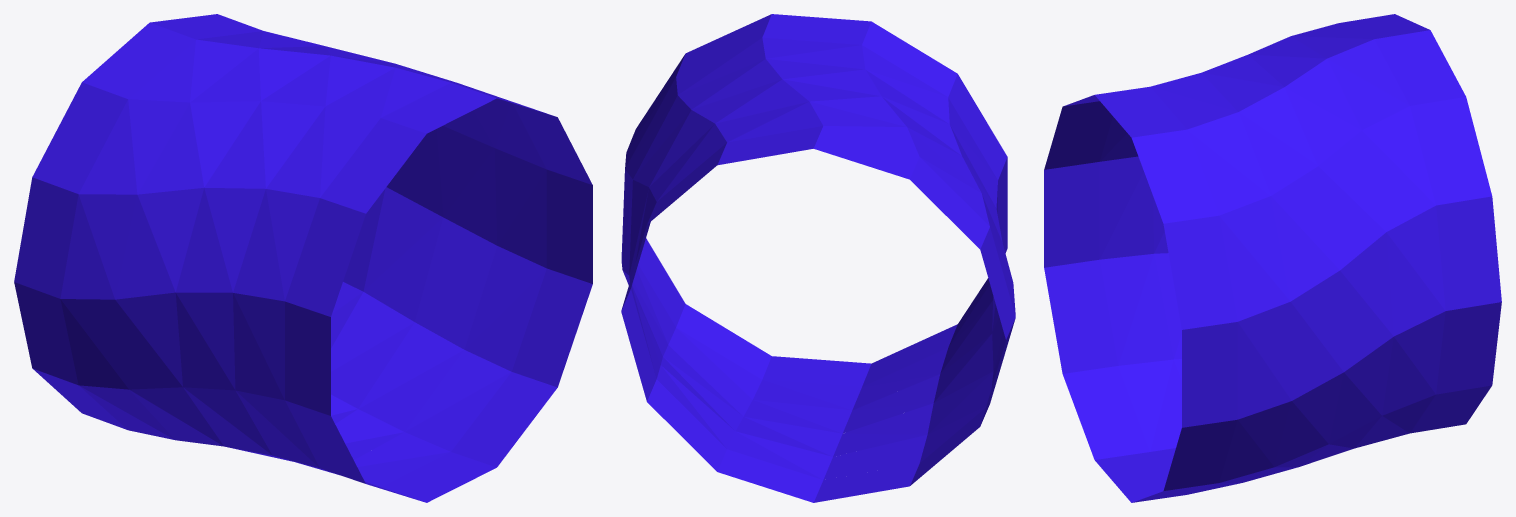
The model's file is rollingFIX.FBX.
The picture shows the model from 3 angles, left to right: view 1: azimuth 30°, elevation 25°; view 2: azimuth 150°, elevation 25°; view 3: azimuth 270°, elevation 25°; orthographic projection. The views are drawn at different scales.
Visible parts, largest first — view 1: Cylinder278; view 2: Cylinder278; view 3: Cylinder278.
Boxes of the visible parts, x1,y1,x2,y2 form: Cylinder278: (14,14,592,502); Cylinder278: (621,14,1015,502); Cylinder278: (1044,14,1501,502).
Size of the model in its own units: 187 by 140 by 154.
